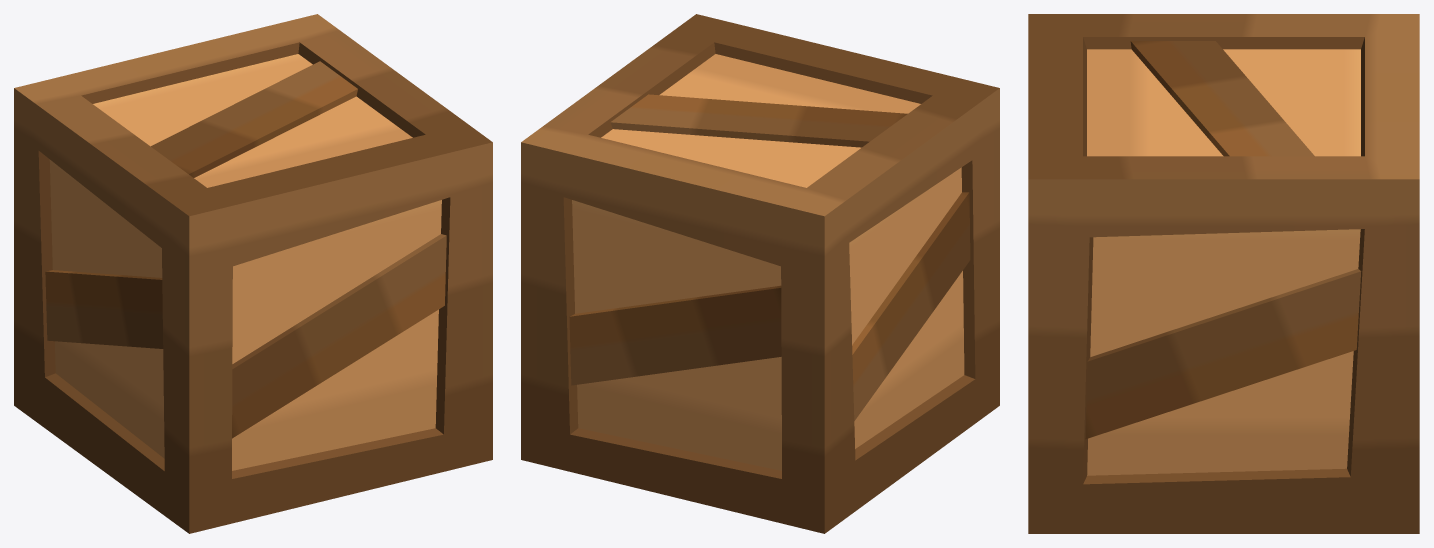
The picture shows the model from 3 angles, left to right: view 1: azimuth 30°, elevation 25°; view 2: azimuth 150°, elevation 25°; view 3: azimuth 270°, elevation 25°; orthographic projection. The views are drawn at different scales.
Visible parts, largest first — view 1: box; view 2: box; view 3: box.
Boxes of the visible parts, left/top/right/bottom form: box: left=14, top=14, right=492, bottom=533; box: left=521, top=14, right=999, bottom=533; box: left=1028, top=14, right=1419, bottom=533.
Size of the model in its own units: 10 by 10 by 10.
